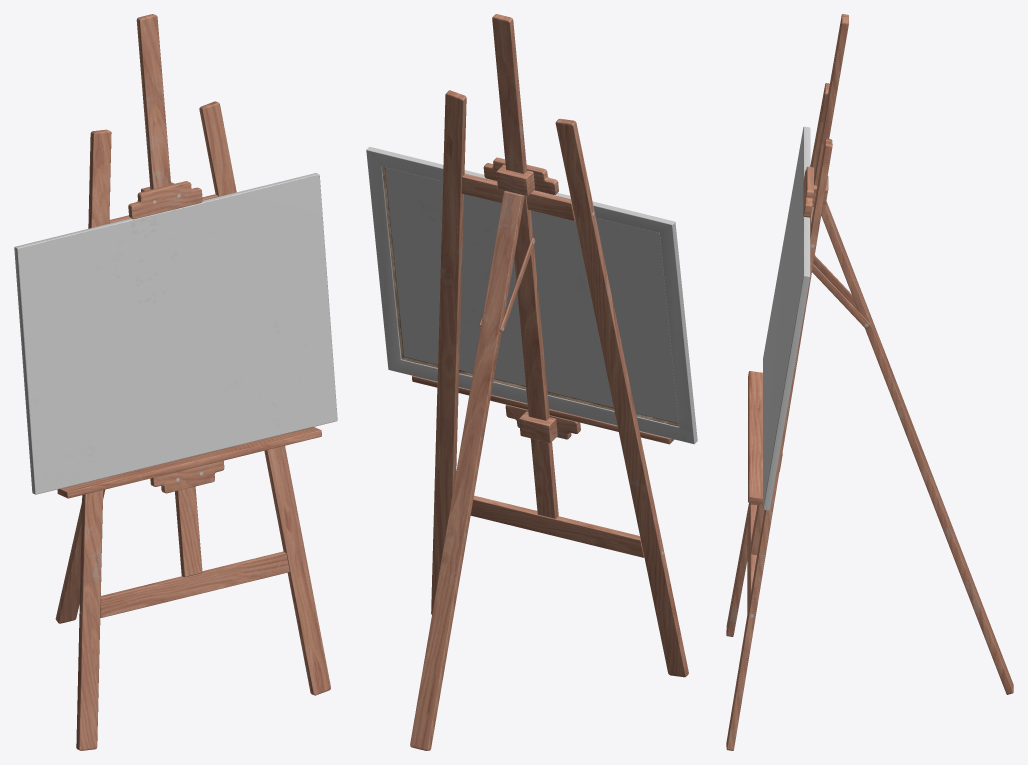
Rendered from artworkCreator.glb.
3 views of the same model, side by side, from view 1: azimuth 30°, elevation 25°; view 2: azimuth 150°, elevation 25°; view 3: azimuth 270°, elevation 25° (orthographic).
Visible parts, largest first — view 1: Easel2; view 2: Easel2; view 3: Easel2.
Boxes of the visible parts, <box> form: Easel2: <box>14,14,337,750</box>; Easel2: <box>366,14,697,750</box>; Easel2: <box>726,14,1013,750</box>.
Bounding box in the file's own units: 0.9615 × 2 × 0.7746.
1 material, 1 textured.
